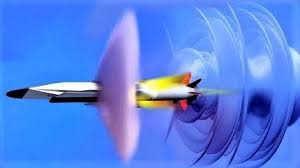ten_lua: (9, 71, 222, 116)
